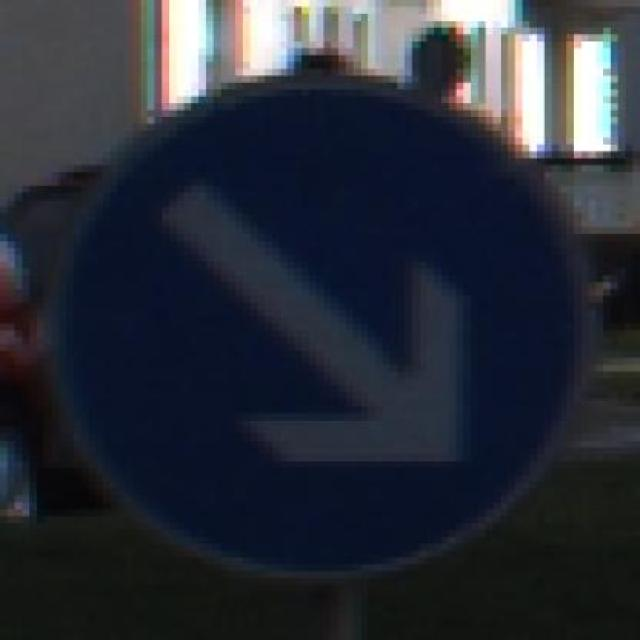Keep-Right: (66, 69, 603, 586)
